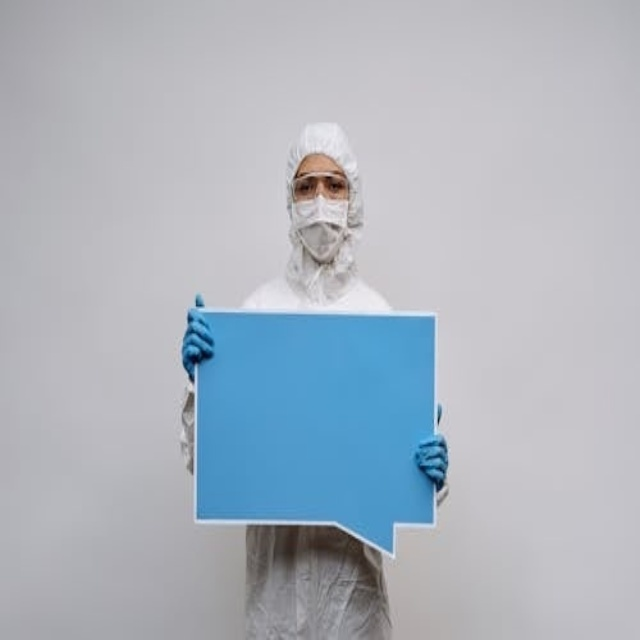Gafas: (291, 173, 349, 202)
Guantes: (415, 407, 448, 495), (183, 296, 214, 382), (437, 403, 442, 426)
Mascara: (292, 193, 349, 261)
